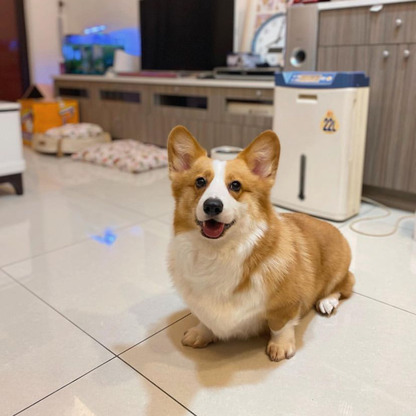Corgi: (154, 108, 377, 379)
